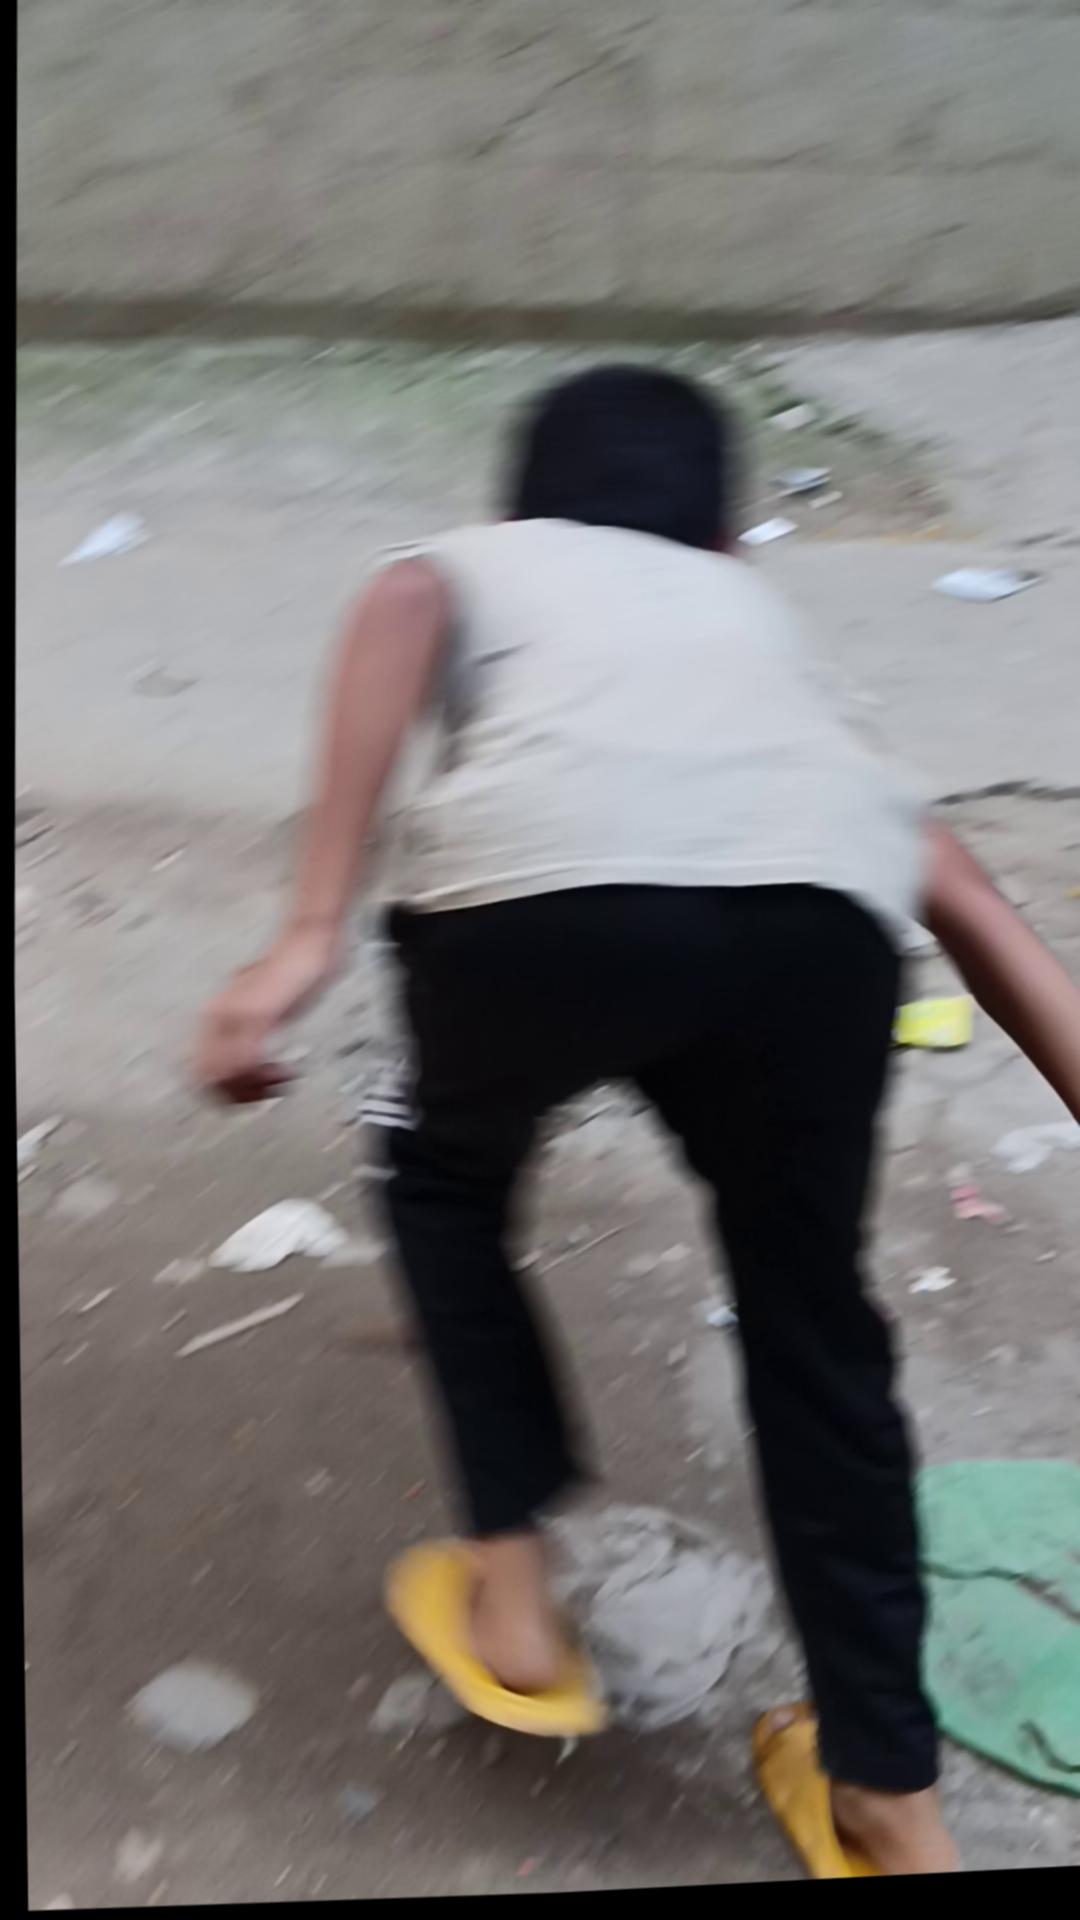Crosswalk: (17, 245, 1080, 390)
Muddy road: (165, 342, 1080, 1913)
